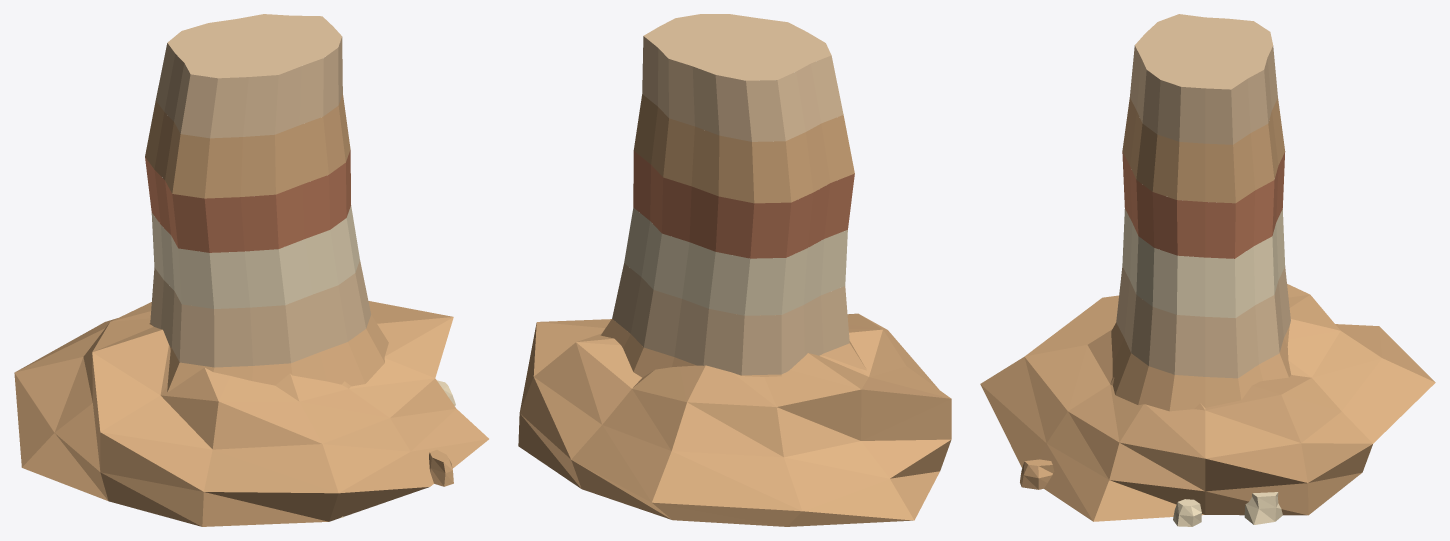
Rendered from mesa.glb.
The picture shows the model from 3 angles, left to right: view 1: azimuth 30°, elevation 25°; view 2: azimuth 150°, elevation 25°; view 3: azimuth 270°, elevation 25°; orthographic projection. The views are drawn at different scales.
Visible parts, largest first — view 1: talus-skirt-butte; view 2: talus-skirt-butte; view 3: talus-skirt-butte.
Boxes of the visible parts, x1,y1,x2,y2 form: talus-skirt-butte: [14, 14, 488, 526]; talus-skirt-butte: [518, 14, 951, 526]; talus-skirt-butte: [980, 14, 1435, 526].
Bounding box in the file's own units: 7.45 × 7 × 7.48.
